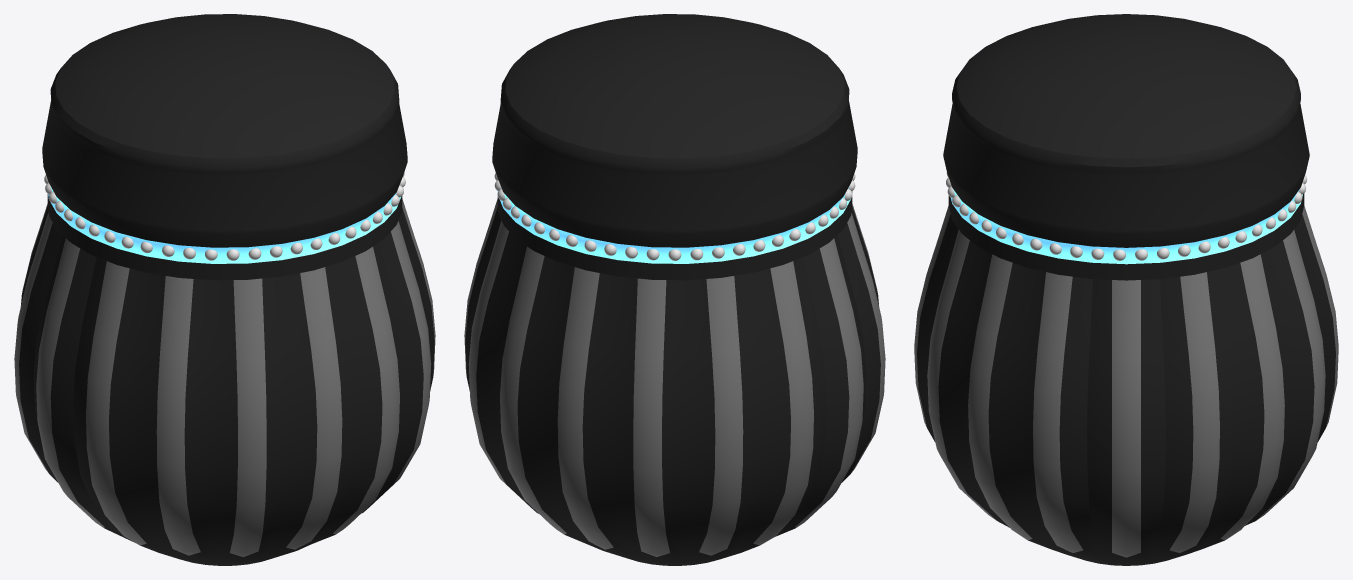
The model's file is GranadaPEM 3.fbx.
The picture shows the model from 3 angles, left to right: view 1: azimuth 30°, elevation 25°; view 2: azimuth 150°, elevation 25°; view 3: azimuth 270°, elevation 25°; orthographic projection.
Parts seen in each view (by area): view 1: Cuerpo.001; view 2: Cuerpo.001; view 3: Cuerpo.001.
Part boxes in pixels (<box>): Cuerpo.001: <box>14,14,435,565</box>; Cuerpo.001: <box>464,14,885,565</box>; Cuerpo.001: <box>914,14,1338,565</box>.
Size of the model in its own units: 251 by 251 by 323.
